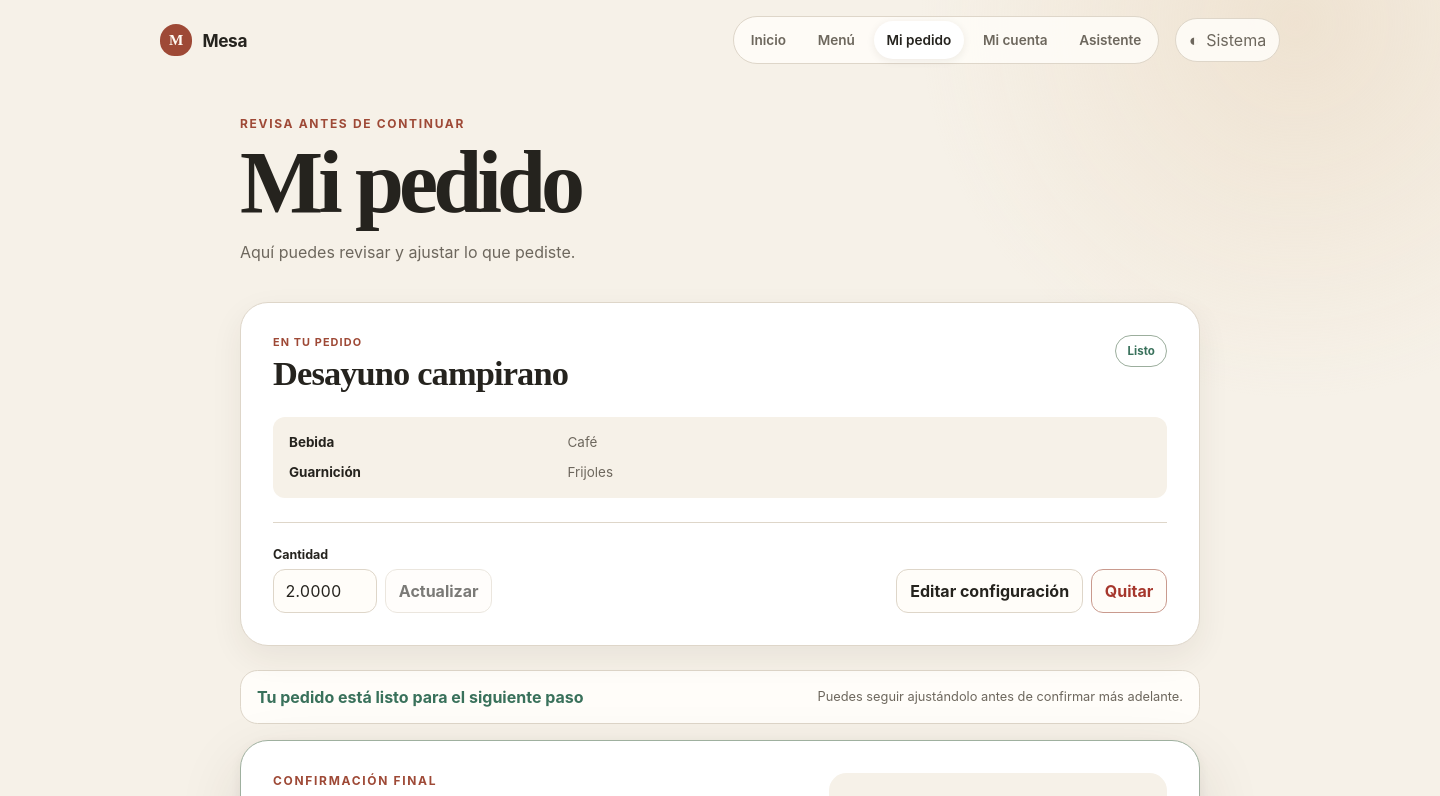
it: draft review › reconciles an ambiguous remove outcome through an authoritative read
What coordinates should you click on to do the following:
click the button "Quitar"
I would click on:
 (1129, 591)
Its box is [1091, 569, 1167, 613].
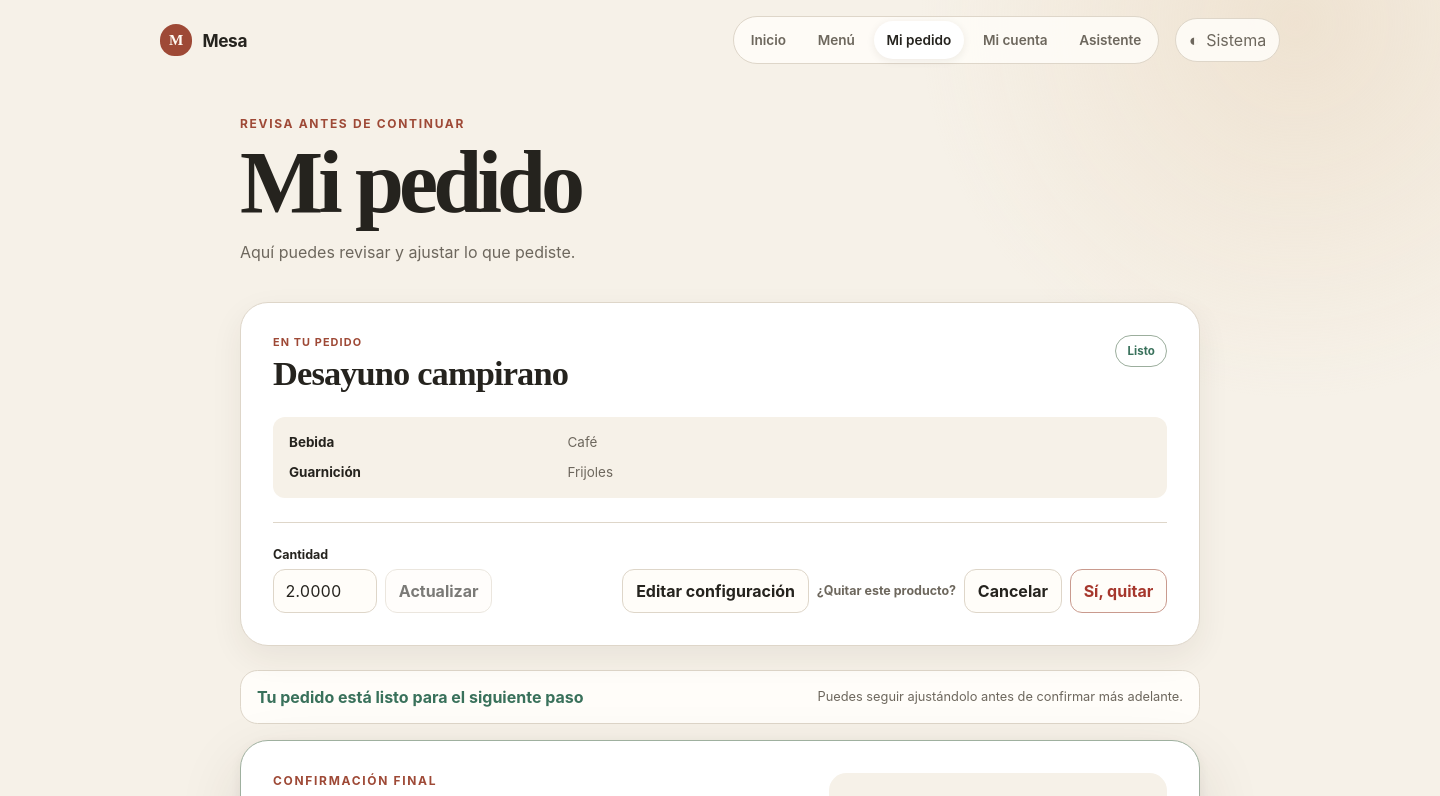
What coordinates should you click on to do the following:
click the button "Sí, quitar"
I would click on:
 (1118, 591)
Its box is [1070, 569, 1167, 613].
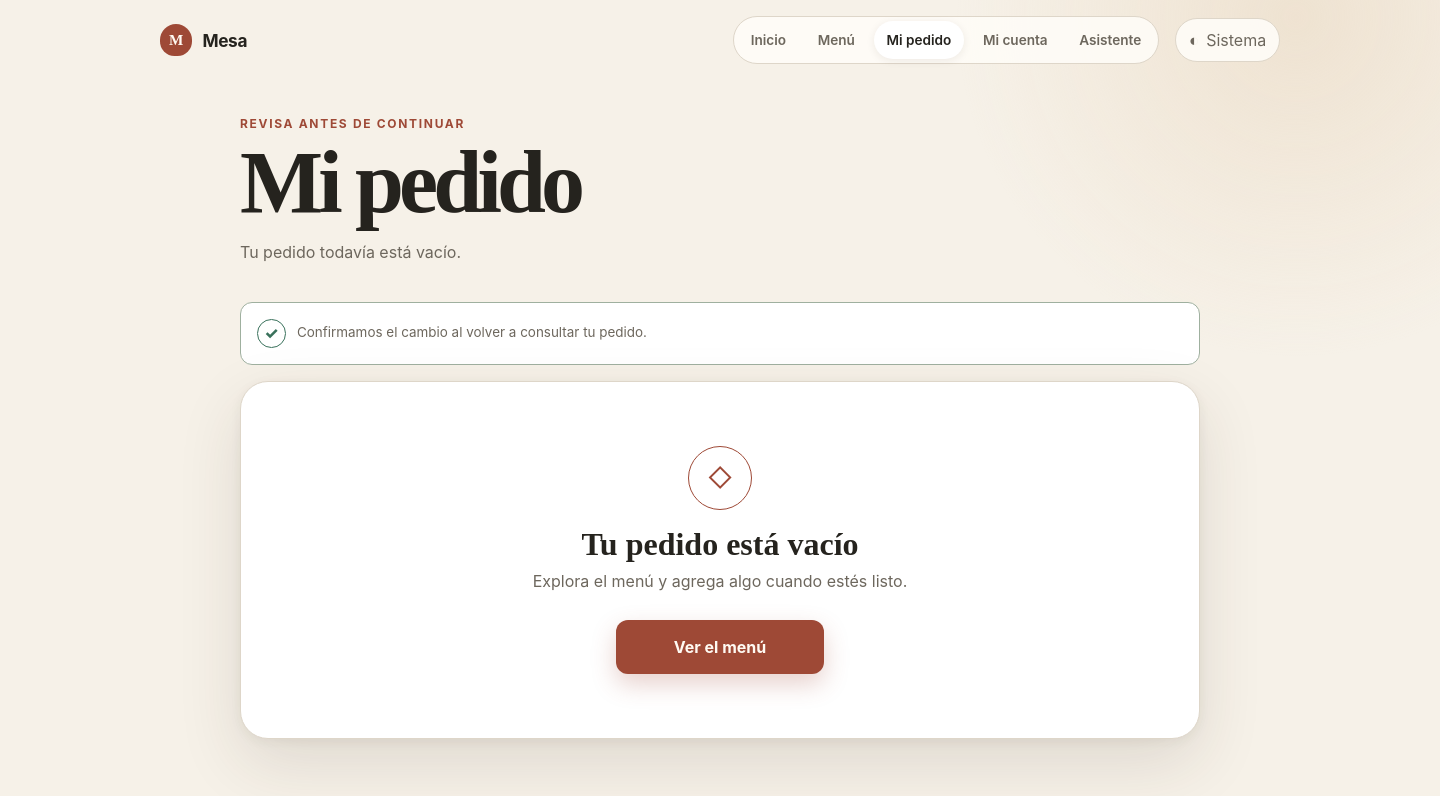
Result: the text "Confirmamos el cambio al volver a consultar tu pedido." is shown at [297, 323, 647, 343]
Result: the heading "Tu pedido está vacío" is shown at [582, 526, 859, 563]
